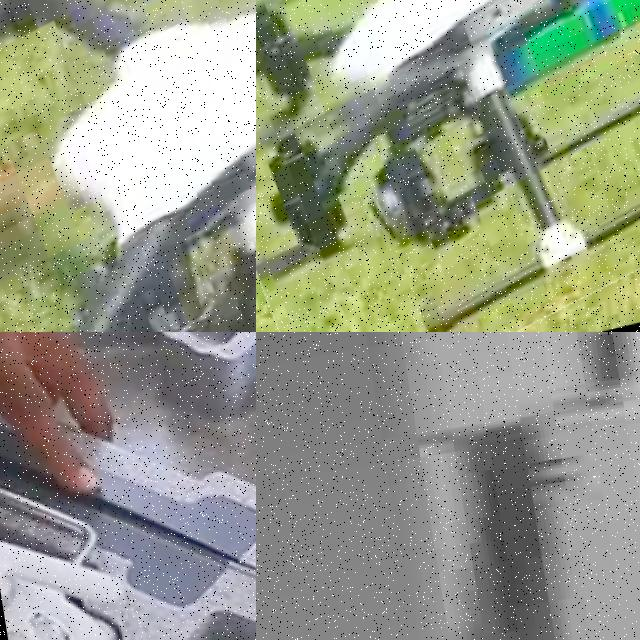drone: (256, 0, 640, 332), (0, 0, 256, 332)
